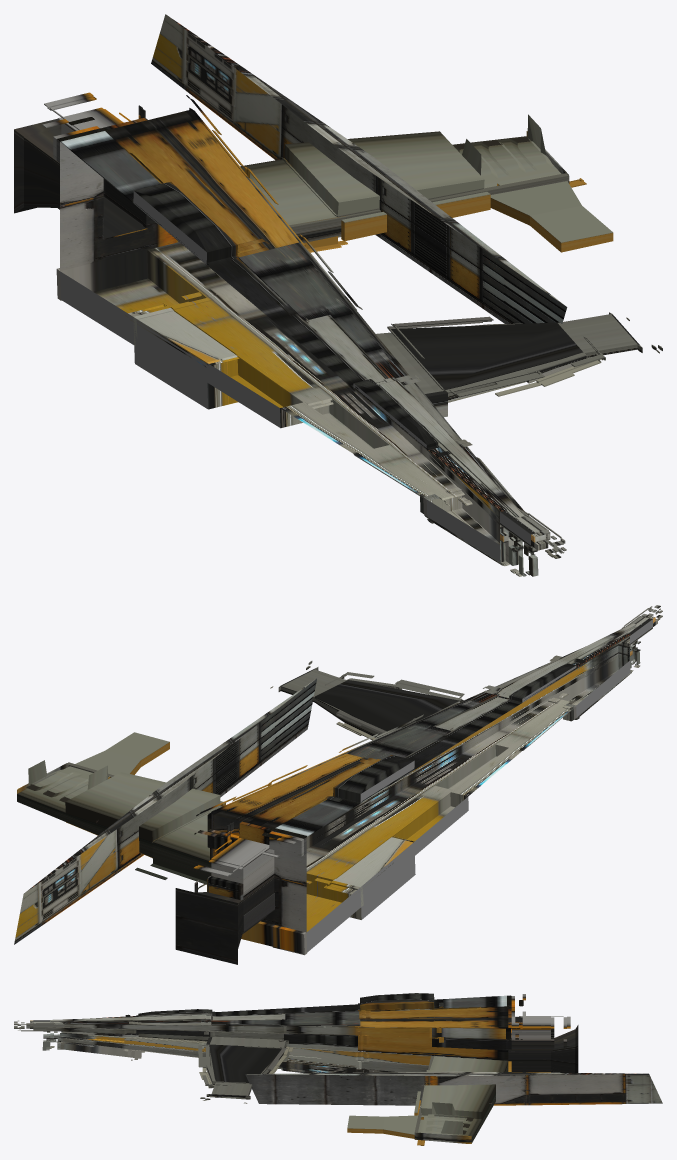
Rendered from randomflow-ship.glb.
3 views of the same model, one above another, from view 1: azimuth 30°, elevation 25°; view 2: azimuth 150°, elevation 25°; view 3: azimuth 270°, elevation 25° (orthographic). The views are drawn at different scales.
Parts seen in each view (by area): view 1: Q, Cube_RExtr, Cube_RExtr_RScatter, Cube_RExtr.001, Cube_RExtr.002, Q_RPanel; view 2: Q, Cube_RExtr, Cube_RExtr_RScatter, Cube_RExtr.001, Cube_RExtr.002, Q_RPanel; view 3: Q, Cube_RExtr_RScatter, Cube_RExtr, Cube_RExtr.001, Cube_RExtr.002, Q_RPanel.
Part boxes in pixels (left/top/right/bottom): Q: left=14, top=109, right=637, bottom=562; Cube_RExtr: left=56, top=118, right=639, bottom=563; Cube_RExtr_RScatter: left=151, top=14, right=567, bottom=323; Cube_RExtr.001: left=53, top=107, right=642, bottom=565; Cube_RExtr.002: left=42, top=92, right=662, bottom=576; Q_RPanel: left=456, top=114, right=551, bottom=182; Q: left=17, top=616, right=652, bottom=964; Cube_RExtr: left=17, top=616, right=655, bottom=954; Cube_RExtr_RScatter: left=14, top=678, right=317, bottom=944; Cube_RExtr.001: left=150, top=614, right=657, bottom=955; Cube_RExtr.002: left=108, top=605, right=662, bottom=933; Q_RPanel: left=26, top=760, right=107, bottom=802; Q: left=33, top=993, right=578, bottom=1143; Cube_RExtr_RScatter: left=245, top=1071, right=662, bottom=1105; Cube_RExtr: left=30, top=995, right=554, bottom=1143; Cube_RExtr.001: left=26, top=995, right=554, bottom=1139; Cube_RExtr.002: left=14, top=994, right=570, bottom=1145; Q_RPanel: left=425, top=1102, right=472, bottom=1134.
Size of the model in its own units: 7.06 by 2.72 by 18.
Materials: 1 (1 with a texture image).
